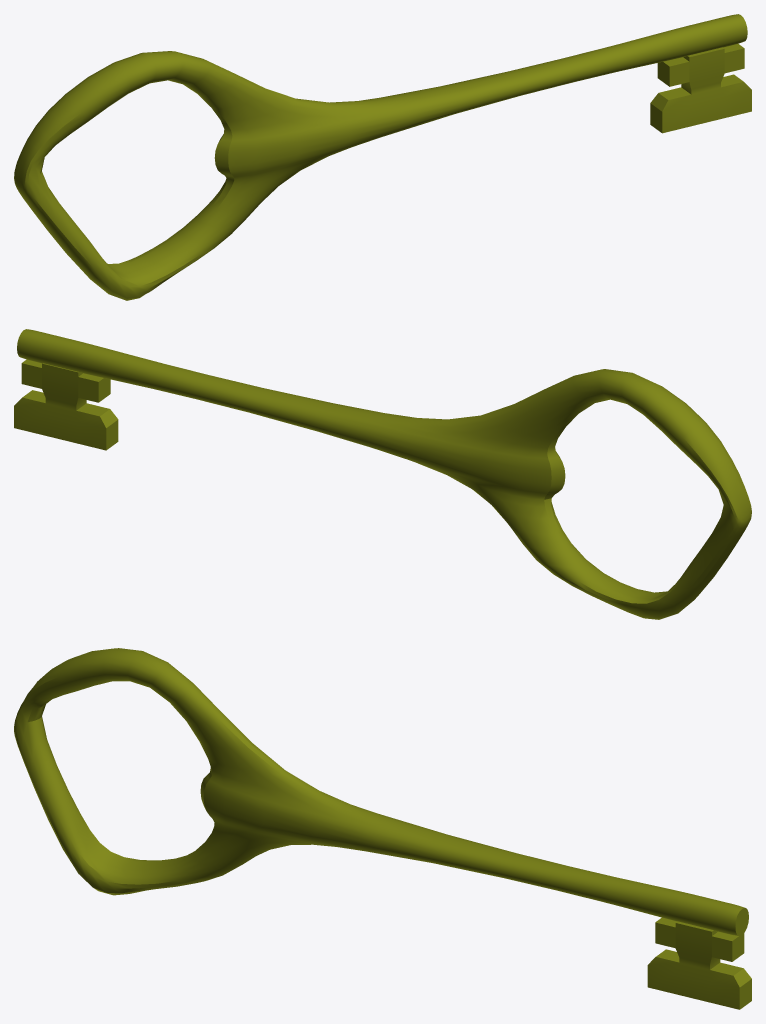
File: key.fbx
3 renders of one model, top to bottom at view 1: azimuth 30°, elevation 25°; view 2: azimuth 150°, elevation 25°; view 3: azimuth 330°, elevation 25°, orthographic. The views are drawn at different scales.
Parts seen in each view (by area): view 1: KEY; view 2: KEY; view 3: KEY.
Boxes of the visible parts, x1,y1,x2,y2 form: KEY: (14, 14, 751, 300); KEY: (14, 329, 751, 619); KEY: (14, 648, 751, 1009).
Bounding box in the file's own units: 121 × 37.91 × 8.64.
